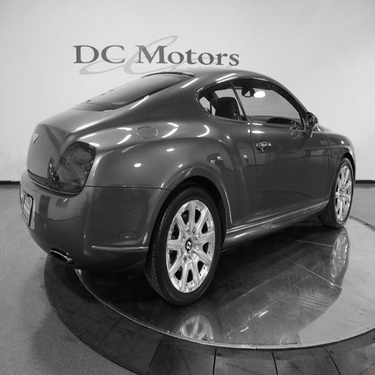car: (11, 61, 362, 311)
